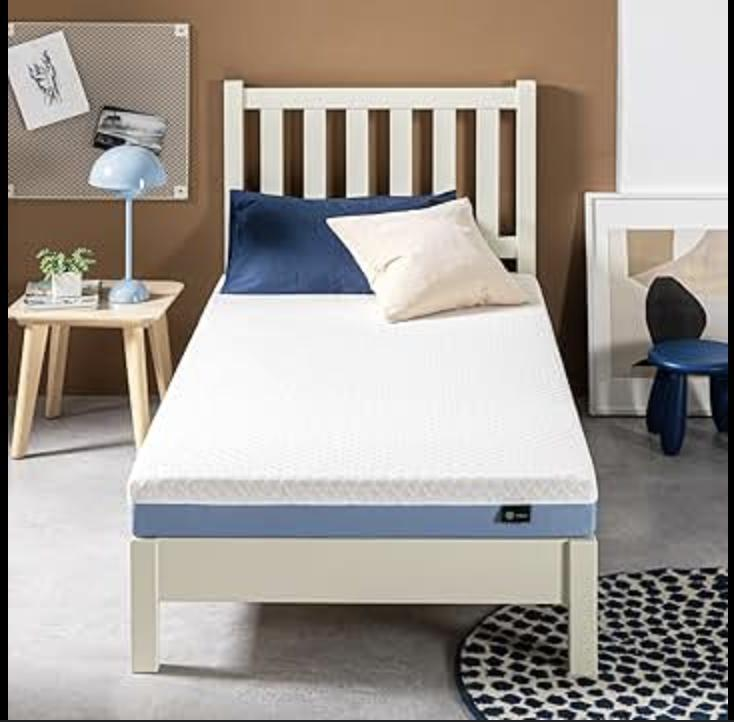Bed-Mattress: (113, 77, 616, 674)
